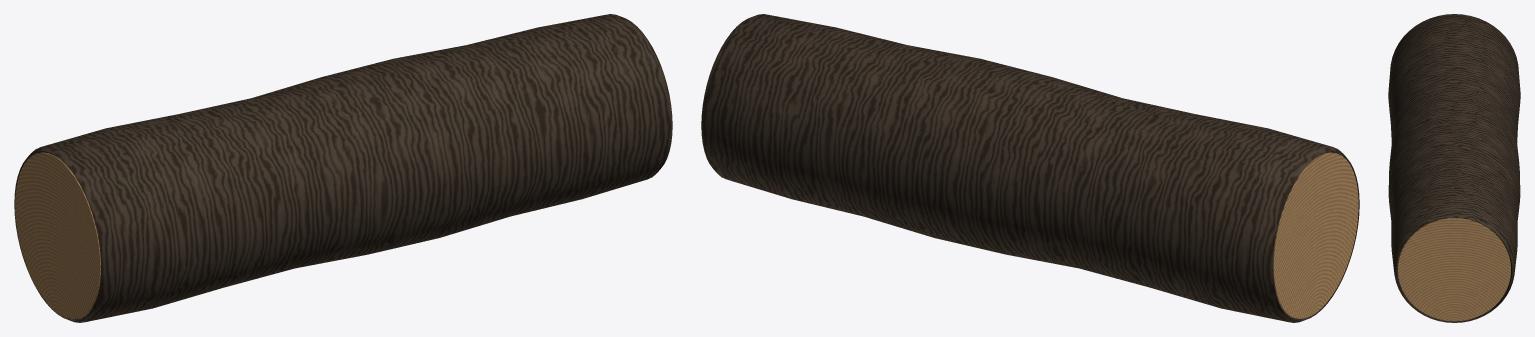
Rendered from big-trunk.glb.
3 views of the same model, side by side, from view 1: azimuth 30°, elevation 25°; view 2: azimuth 150°, elevation 25°; view 3: azimuth 270°, elevation 25° (orthographic). The views are drawn at different scales.
Visible parts, largest first — view 1: bark, endgrain; view 2: bark, endgrain; view 3: bark, endgrain.
Boxes of the visible parts, box(x1,y1,x2,y2) form: bark: box(14, 14, 672, 322); endgrain: box(15, 152, 100, 318); bark: box(701, 14, 1359, 322); endgrain: box(1273, 152, 1358, 318); bark: box(1388, 14, 1520, 322); endgrain: box(1398, 218, 1510, 321).
Bounding box in the file's own units: 2.2 × 0.6178 × 0.6178.
2 materials, 2 textured.
